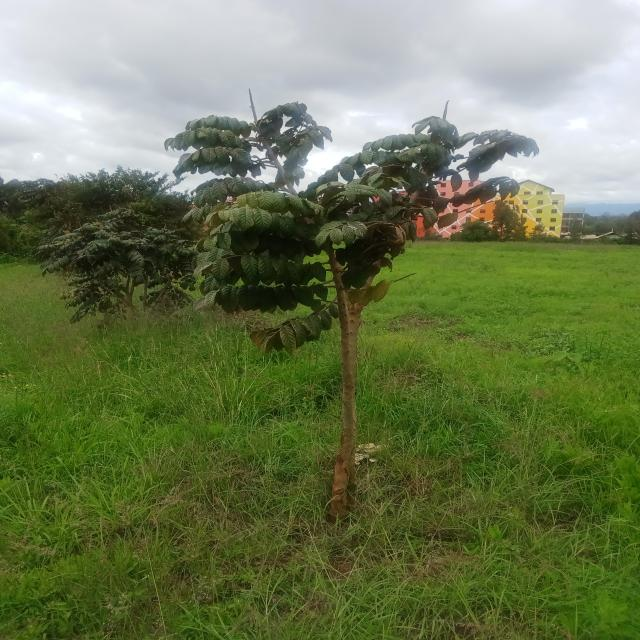Polyscias Kikuyensis: (141, 92, 591, 500), (50, 200, 198, 339)
